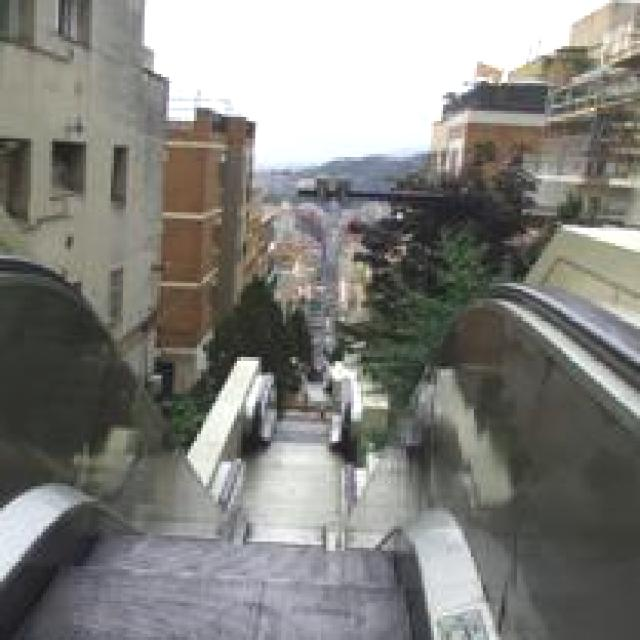downstair: (97, 441, 423, 638)
